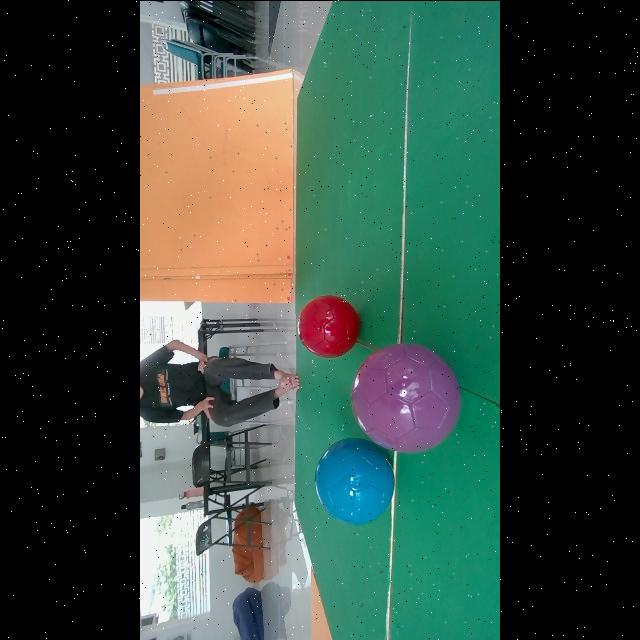B: (315, 437, 394, 525)
P: (351, 344, 461, 451)
R: (297, 295, 360, 356)
